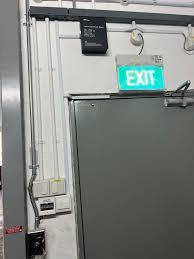exit: (69, 97, 193, 258)
lit_exit_sign: (119, 66, 163, 89)
